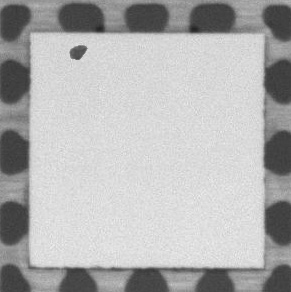DIE_INK: (68, 43, 87, 60)
